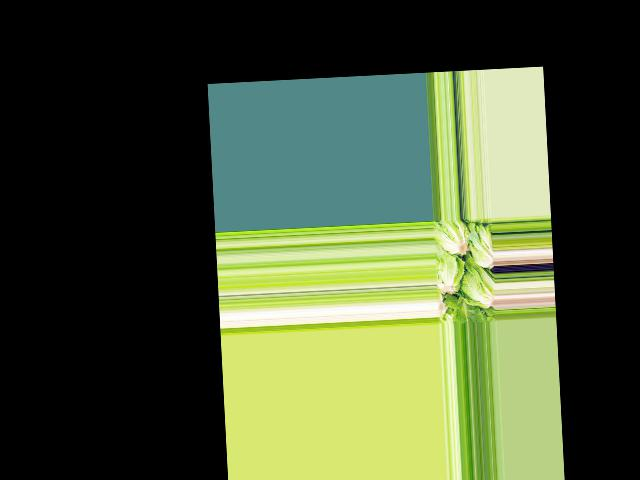lettuce: (451, 298, 477, 324)
